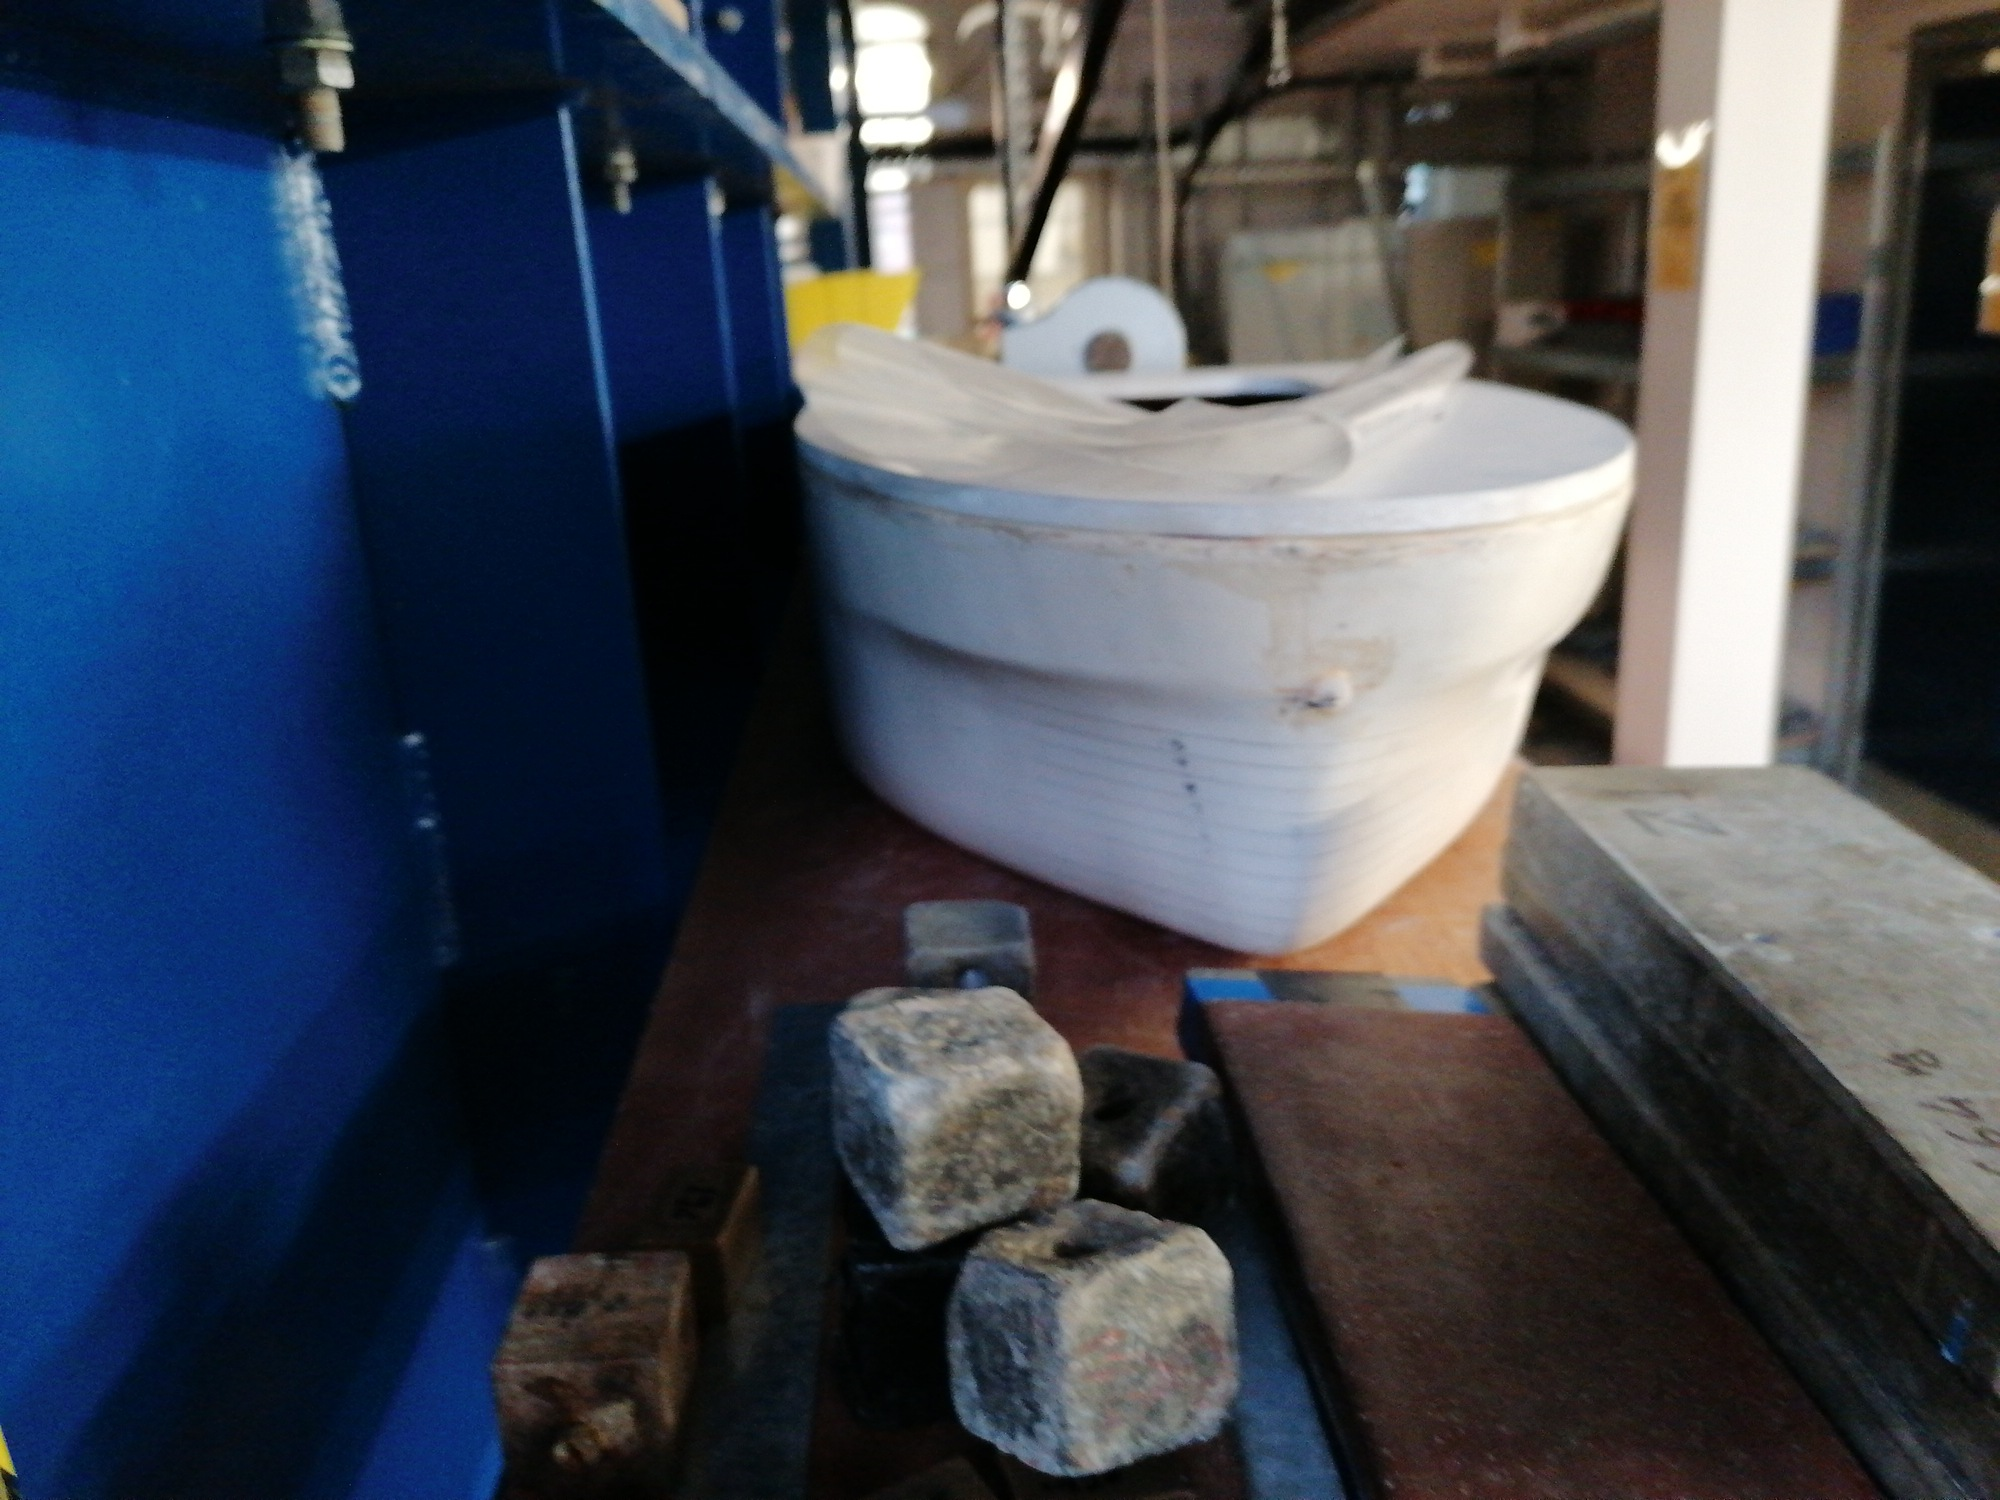lead-block: (1509, 756, 2000, 1380), (940, 1194, 1243, 1475), (825, 982, 1083, 1253), (491, 1245, 694, 1492), (1068, 1034, 1239, 1220), (628, 1153, 761, 1322), (898, 895, 1039, 1015)
